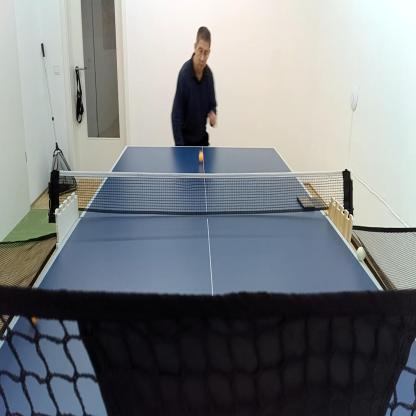Ball: (356, 247, 366, 262), (198, 150, 204, 164)
